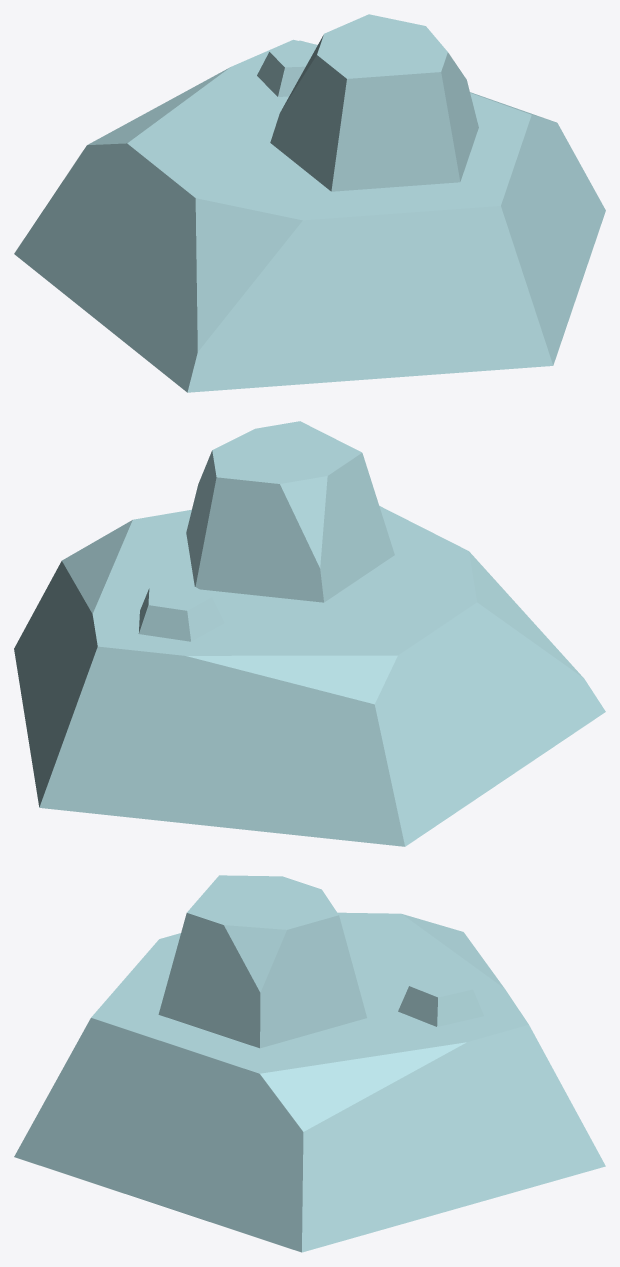
The model's file is stone_smallTopB.fbx.
3 renders of one model, top to bottom at view 1: azimuth 30°, elevation 25°; view 2: azimuth 150°, elevation 25°; view 3: azimuth 270°, elevation 25°, orthographic. The views are drawn at different scales.
Parts seen in each view (by area): view 1: stone_smallTopB; view 2: stone_smallTopB; view 3: stone_smallTopB.
Part boxes in pixels (<box>): stone_smallTopB: <box>14,14,605,392</box>; stone_smallTopB: <box>14,421,605,846</box>; stone_smallTopB: <box>14,875,605,1252</box>.
Size of the model in its own units: 6.22 by 2.8 by 6.46.
